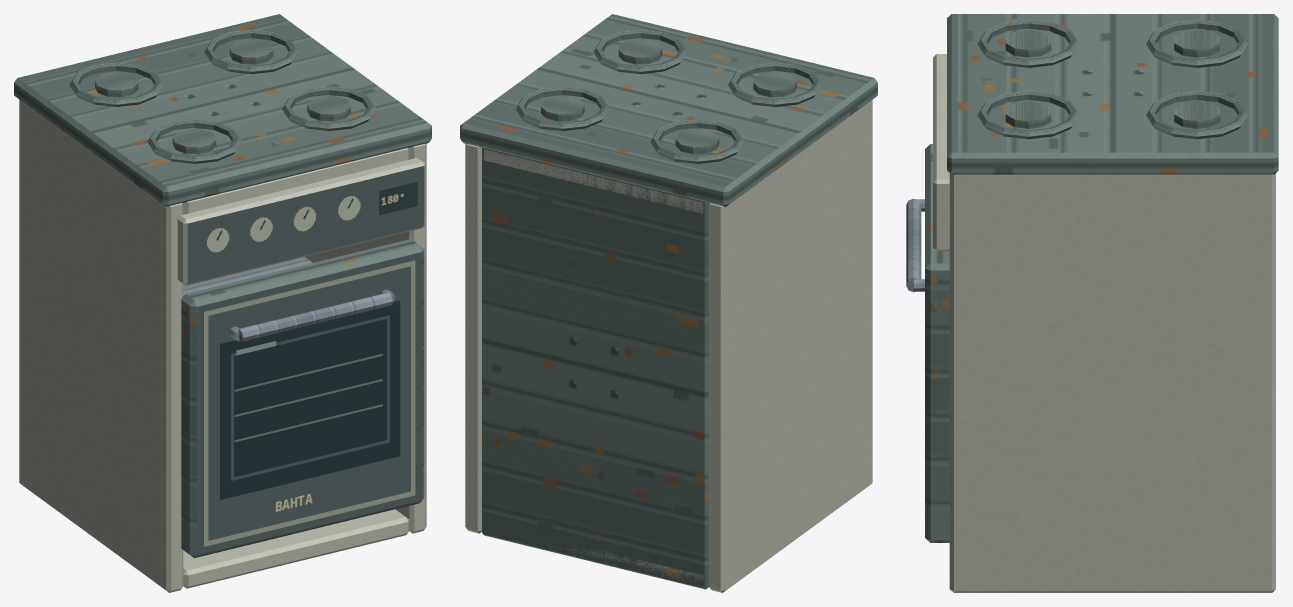
File: MD_49_Cooker.fbx
3 renders of one model, left to right at view 1: azimuth 30°, elevation 25°; view 2: azimuth 150°, elevation 25°; view 3: azimuth 270°, elevation 25°, orthographic. The views are drawn at different scales.
Parts seen in each view (by area): view 1: MD_49_Cooker_oven_door, MD_49_Cooker_appliance_side, MD_49_Cooker_cooktop, MD_49_Cooker_control_panel, MD_49_Cooker_appliance_end, MD_49_Cooker_appliance_side.001, MD_49_Cooker_appliance_end.001, MD_49_Cooker_oven_handle_grip, MD_49_Cooker_burner_ring, MD_49_Cooker_burner_ring.002, MD_49_Cooker_burner_ring.001, MD_49_Cooker_burner_ring.003 (+5 smaller); view 2: MD_49_Cooker_dark_cavity_back, MD_49_Cooker_appliance_side, MD_49_Cooker_cooktop, MD_49_Cooker_appliance_side.001, MD_49_Cooker_appliance_end.001, MD_49_Cooker_burner_ring.001, MD_49_Cooker_burner_ring.003, MD_49_Cooker_burner_ring, MD_49_Cooker_burner_ring.002, MD_49_Cooker_burner_cap.002, MD_49_Cooker_burner_cap, MD_49_Cooker_burner_cap.001 (+2 smaller); view 3: MD_49_Cooker_appliance_side.001, MD_49_Cooker_cooktop, MD_49_Cooker_oven_door, MD_49_Cooker_control_panel, MD_49_Cooker_burner_ring, MD_49_Cooker_burner_ring.002, MD_49_Cooker_burner_ring.003, MD_49_Cooker_burner_ring.001, MD_49_Cooker_oven_handle_grip, MD_49_Cooker_burner_cap, MD_49_Cooker_burner_cap.002, MD_49_Cooker_burner_cap.003 (+1 smaller).
Boxes of the visible parts, x1,y1,x2,y2 form: MD_49_Cooker_oven_door: (181,239,424,558); MD_49_Cooker_appliance_side: (19,100,183,592); MD_49_Cooker_cooktop: (14,14,431,206); MD_49_Cooker_control_panel: (177,158,425,285); MD_49_Cooker_appliance_end: (183,509,409,588); MD_49_Cooker_appliance_side.001: (305,143,426,533); MD_49_Cooker_appliance_end.001: (183,148,409,214); MD_49_Cooker_oven_handle_grip: (238,292,393,341); MD_49_Cooker_burner_ring: (147,119,241,163); MD_49_Cooker_burner_ring.002: (282,86,375,130); MD_49_Cooker_burner_ring.001: (70,62,163,106); MD_49_Cooker_burner_ring.003: (204,29,298,74); MD_49_Cooker_dark_cavity_back: (482,147,708,589); MD_49_Cooker_appliance_side: (708,100,872,592); MD_49_Cooker_cooktop: (460,14,877,206); MD_49_Cooker_appliance_side.001: (465,143,481,533); MD_49_Cooker_appliance_end.001: (484,149,703,213); MD_49_Cooker_burner_ring.001: (650,119,744,163); MD_49_Cooker_burner_ring.003: (516,86,609,130); MD_49_Cooker_burner_ring: (728,62,821,106); MD_49_Cooker_burner_ring.002: (593,29,687,74); MD_49_Cooker_burner_cap.002: (618,39,662,64); MD_49_Cooker_burner_cap: (753,72,796,97); MD_49_Cooker_burner_cap.001: (675,129,719,154); MD_49_Cooker_appliance_side.001: (949,173,1275,592); MD_49_Cooker_cooktop: (947,14,1278,174); MD_49_Cooker_oven_door: (925,144,949,542); MD_49_Cooker_control_panel: (933,54,949,251); MD_49_Cooker_burner_ring: (977,19,1079,67); MD_49_Cooker_burner_ring.002: (977,91,1079,139); MD_49_Cooker_burner_ring.003: (1146,91,1248,139); MD_49_Cooker_burner_ring.001: (1146,19,1247,67); MD_49_Cooker_oven_handle_grip: (906,198,921,292); MD_49_Cooker_burner_cap: (1005,30,1051,57); MD_49_Cooker_burner_cap.002: (1005,101,1051,128); MD_49_Cooker_burner_cap.003: (1174,101,1219,128).
Bounding box in the file's own units: 0.62 × 0.9136 × 0.685.
Materials: 5 (5 with a texture image).
